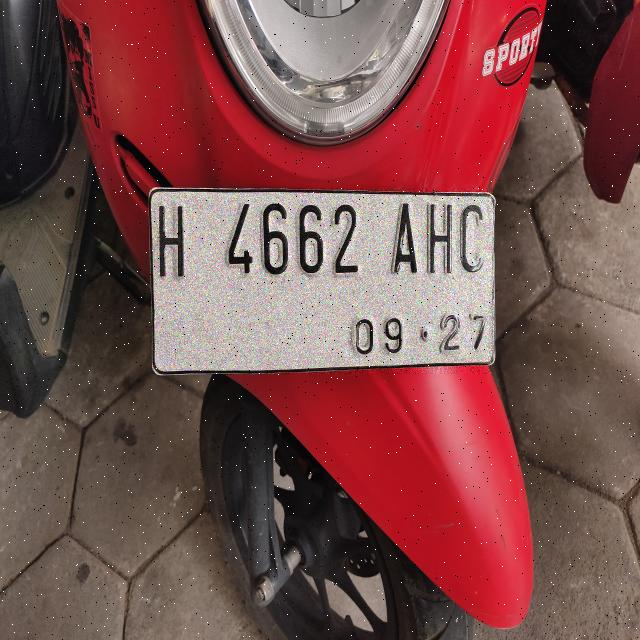plate: (150, 189, 493, 373)
